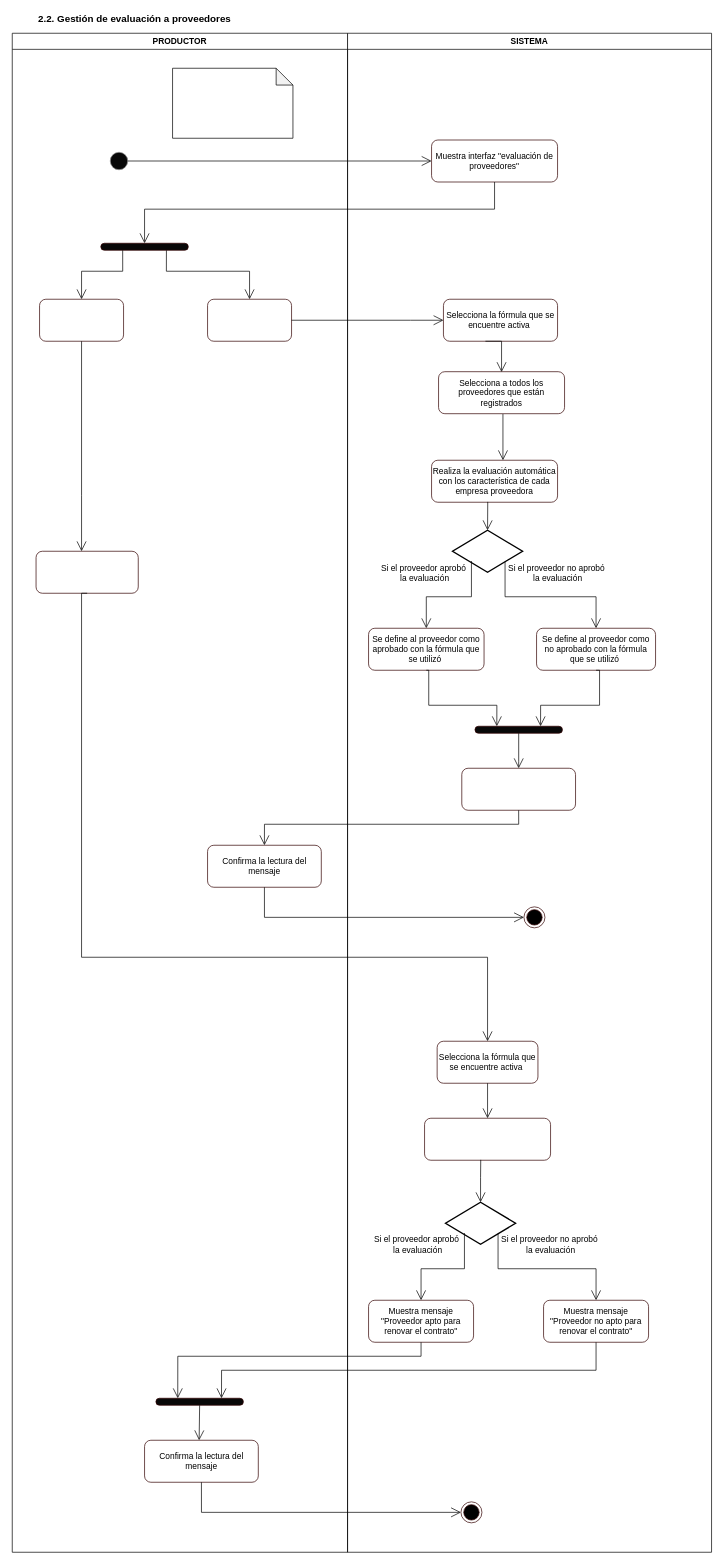
The diagram is 724 pixels wide and 1565 high, and some of its shapes have lost their labels. The shapes that lost their labels are listed below. From the top down, each one's box as (x1, y1, x2, y2) in pixels, then its label:
(172, 68, 293, 138): Este flujo se inicia cuando el proveedor selecciona evaluaciones a proveedores
(39, 299, 124, 341): Selecciona realizar evaluación anual
(207, 299, 292, 341): Selecciona realizar evaluación inicial
(35, 551, 138, 593): Selecciona un contrato activo para realizar la evaluación anual
(461, 768, 576, 810): Muestra mensaje "Evaluación realizada con éxito"
(424, 1118, 551, 1160): Realiza la evaluación automática con los característica de la empresa proveedora
